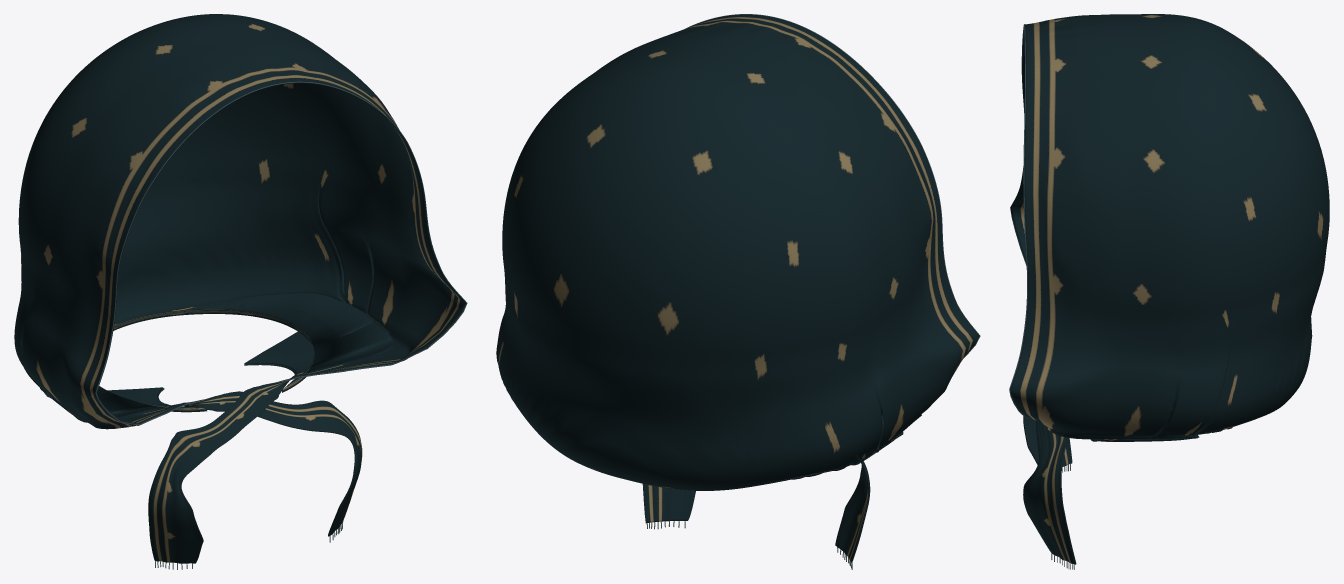
File: Feminine-Feminine-straight-open-pashmina250-headgear-0f399e15.glb
The picture shows the model from 3 angles, left to right: view 1: azimuth 30°, elevation 25°; view 2: azimuth 150°, elevation 25°; view 3: azimuth 270°, elevation 25°; orthographic projection. The views are drawn at different scales.
Parts seen in each view (by area): view 1: 226 headgear / Headwear / continuous woven pashmina239, 226 headgear / Headwear / face edge239; view 2: 226 headgear / Headwear / continuous woven pashmina239, 226 headgear / Headwear / face edge239; view 3: 226 headgear / Headwear / continuous woven pashmina239, 226 headgear / Headwear / face edge239.
Part boxes in pixels (x1,y1,x2,y2): 226 headgear / Headwear / continuous woven pashmina239: (14,14,466,563); 226 headgear / Headwear / face edge239: (95,81,467,425); 226 headgear / Headwear / continuous woven pashmina239: (496,14,979,562); 226 headgear / Headwear / face edge239: (685,14,980,358); 226 headgear / Headwear / continuous woven pashmina239: (1010,14,1329,564); 226 headgear / Headwear / face edge239: (1009,24,1032,419).
Bounding box in the file's own units: 0.9769 × 1.23 × 0.7231.
3 materials, 1 textured.
